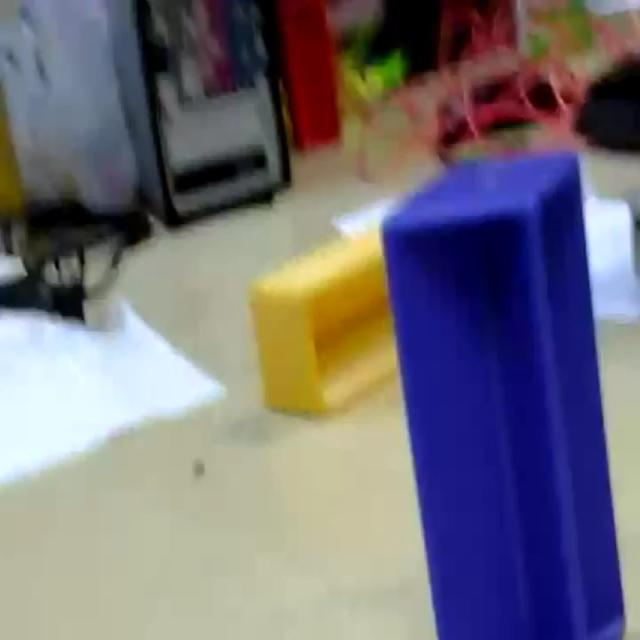blue_block: (379, 148, 626, 636)
yellow_block: (248, 222, 398, 414)
